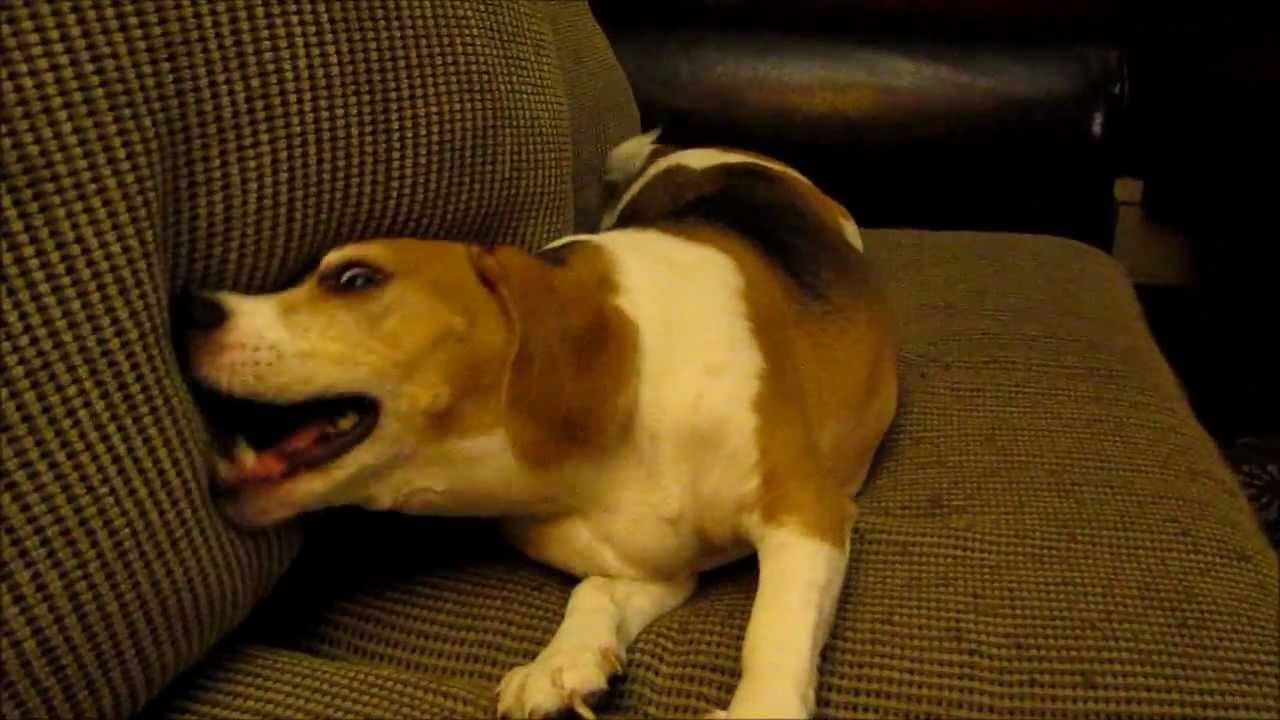dog: (155, 121, 913, 720)
